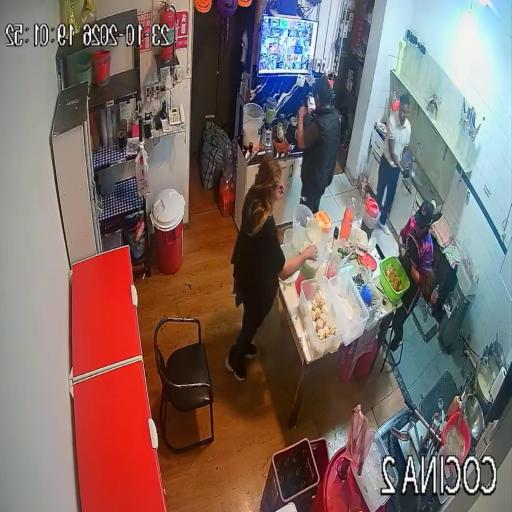Envase Llajua: (448, 395, 465, 417)
Jarra1: (362, 197, 379, 241)
Jarra2: (315, 210, 333, 244)
Jarra3: (292, 204, 313, 250)
Persona1: (297, 76, 340, 213)
Persona2: (392, 201, 433, 349)
Persona3: (226, 157, 317, 380)
Persona4: (377, 95, 411, 232)
Taper2: (358, 272, 382, 312)
Taper3: (329, 272, 369, 345)
Taper4: (299, 276, 350, 360)
